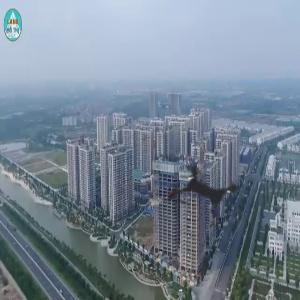drone: (127, 121, 277, 271)
